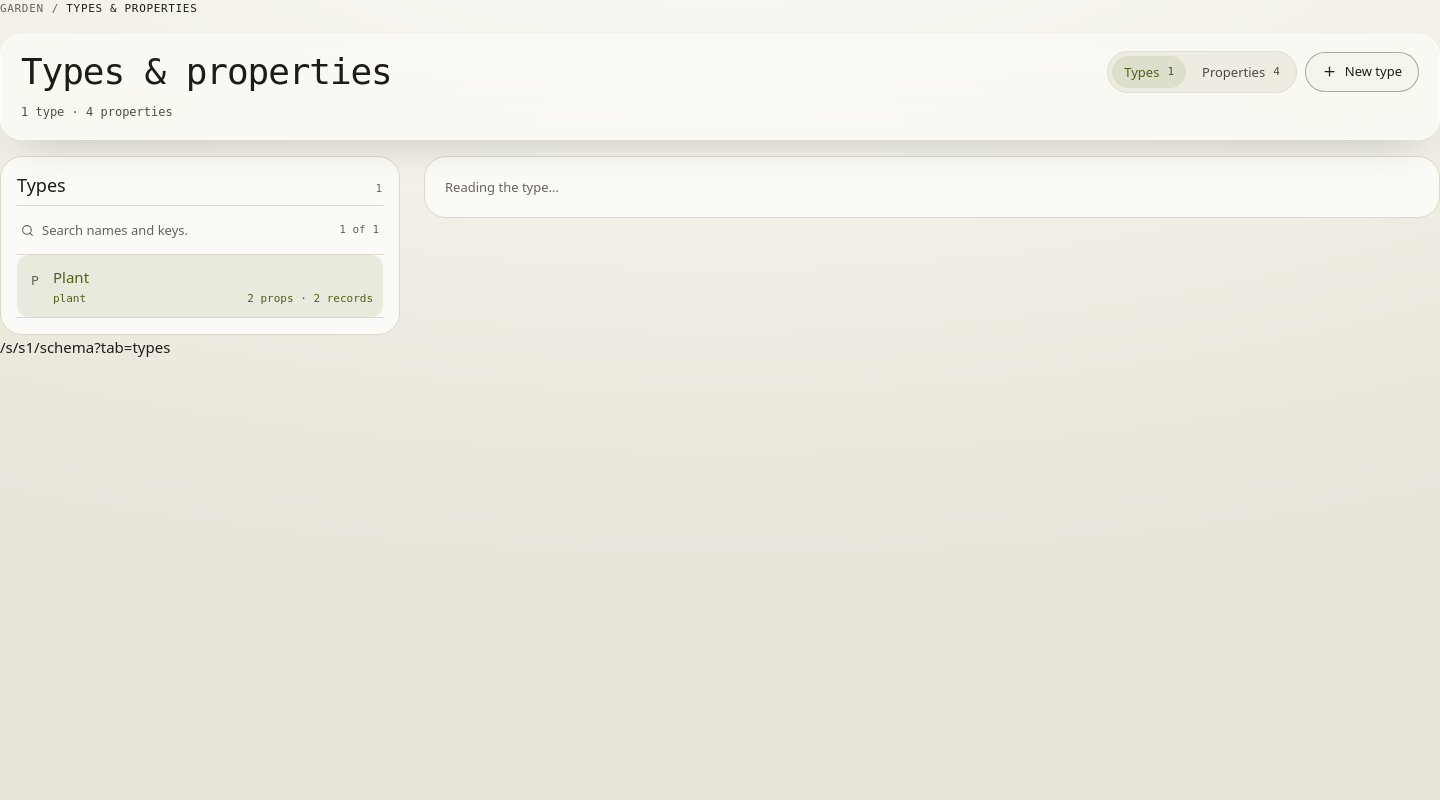
Test case: SchemaPage › searches the type list by name and key
The image size is (1440, 800).
Type "pla" into the search field named "Search types".
click(187, 230); type("pla")  # box [42,214,331,246]
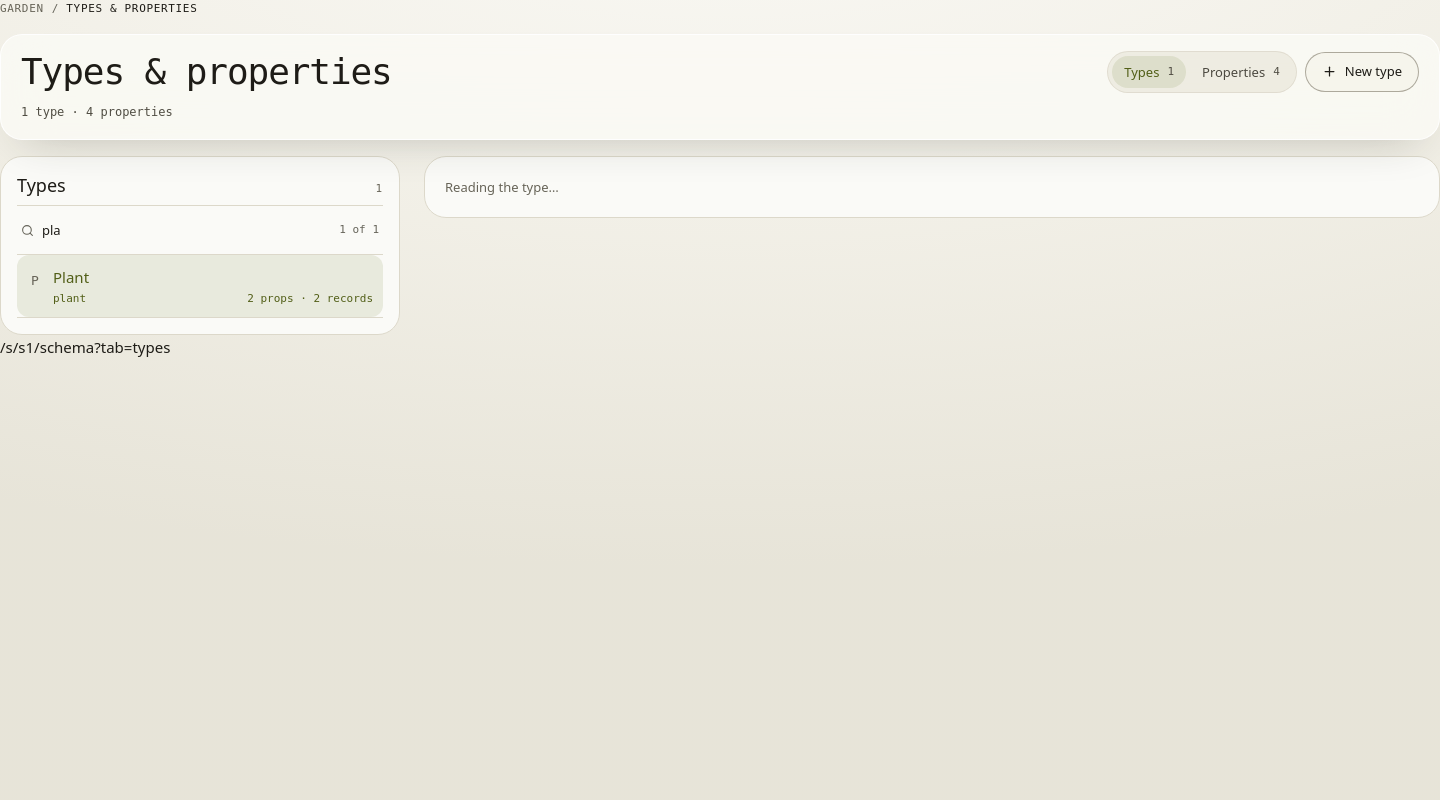
Check: the text "1 of 1" is shown, box [339,221,379,239]
Replace the text in the search field named "Search types" with "zzz" at (187, 230), box [42,214,331,246]
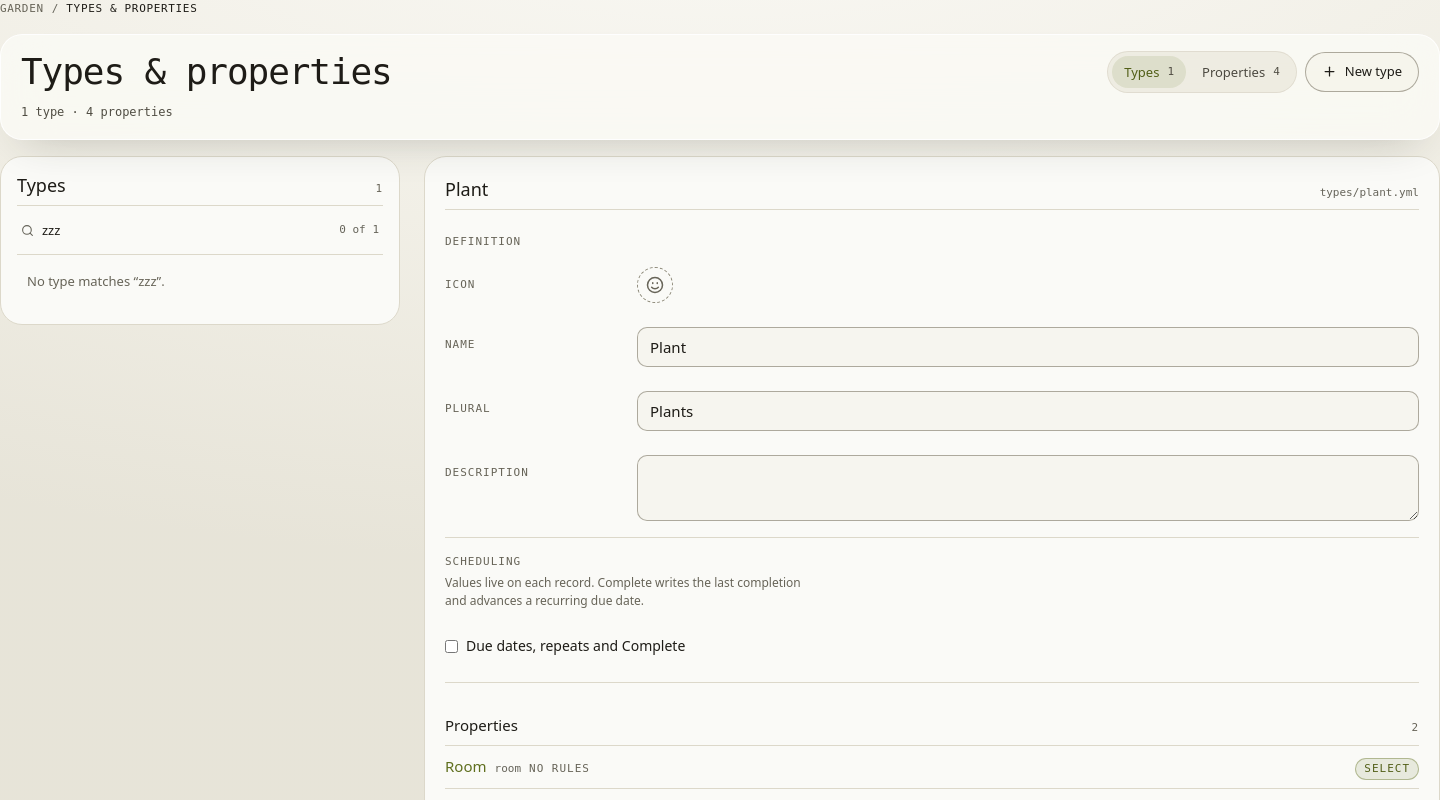
Check: the text "No type matches “zzz”." is shown, box [27,272,165,290]
